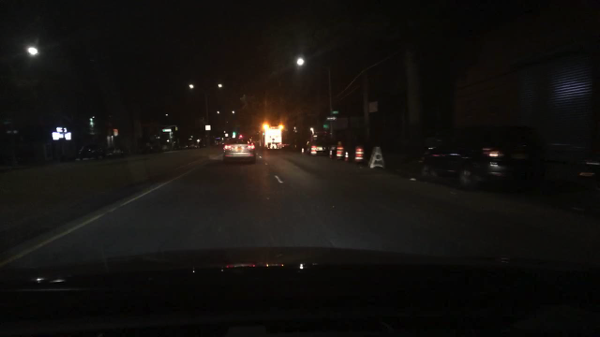car: (418, 124, 549, 194), (565, 144, 600, 213), (221, 134, 256, 164), (303, 135, 332, 157), (80, 144, 103, 161), (102, 147, 124, 159), (138, 140, 157, 153), (158, 140, 174, 153), (175, 140, 189, 151), (212, 136, 226, 146), (189, 140, 200, 148)
traffic sign: (369, 102, 379, 113), (326, 117, 337, 121), (205, 124, 211, 131), (322, 124, 330, 129), (332, 111, 338, 116)
truck: (261, 125, 283, 152)
